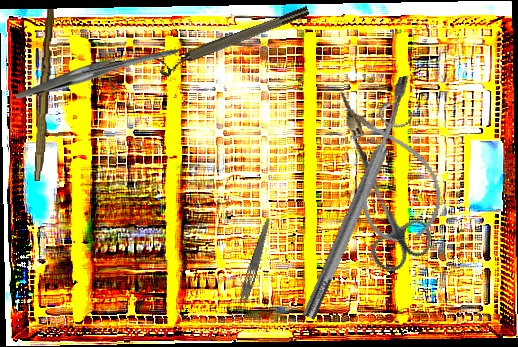Cannula: (336, 74, 449, 247)
Chopper: (80, 41, 201, 84)
Dressing Forceps: (16, 50, 141, 99), (231, 216, 273, 325)
Fixation Ring: (290, 100, 417, 324), (155, 3, 313, 79)
Iris Scissors: (321, 120, 440, 278)
Scalpel Handle: (33, 8, 56, 182)
